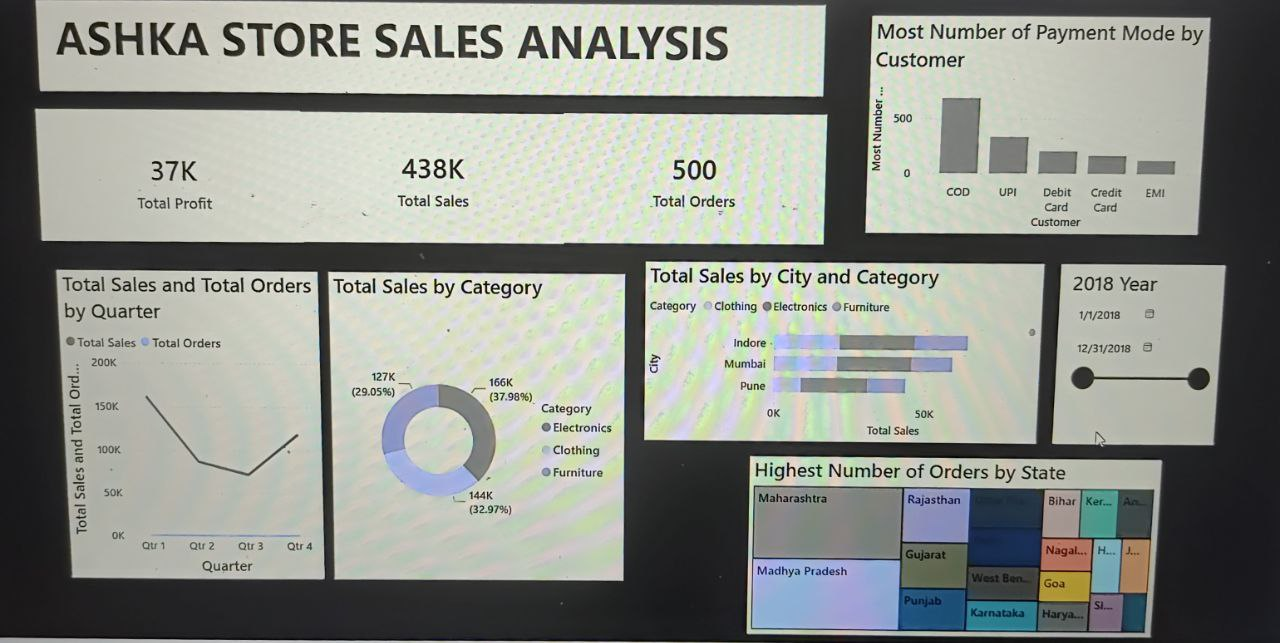

Layout of this report page (visuals, bound fields, positions):
{"tool":"powerbi","page":{"name":"Page 1","canvas":[1280,720],"ordinal":0},"visuals":[{"type":"card","fields":{"Values":["Sum(DETAILS.Profit)"]},"box":[0,133.7,279.9,140],"z":0},{"type":"card","fields":{"Values":["DETAILS.Total Sales"]},"box":[279.9,135,279.9,138.6],"z":1000},{"type":"lineChart","fields":{"Category":["ORDERS.Order Date.Variation.Date Hierarchy.Year","ORDERS.Order Date.Variation.Date Hierarchy.Quarter","ORDERS.Order Date.Variation.Date Hierarchy.Month","ORDERS.Order Date.Variation.Date Hierarchy.Day"],"Y":["DETAILS.Total Sales","DETAILS.Total Orders"]},"box":[13.7,306,279.9,343.1],"z":2000},{"type":"card","fields":{"Values":["DETAILS.Total Orders"]},"box":[559.9,133.7,279.9,138.6],"z":3000},{"type":"barChart","fields":{"Category":["ORDERS.City"],"Y":["DETAILS.Total Sales"],"Series":["DETAILS.Category"]},"box":[647.7,291.2,428.1,197.6],"z":4000},{"type":"donutChart","fields":{"Y":["DETAILS.Total Sales"],"Category":["DETAILS.Category"]},"box":[306,306,321.1,343.1],"z":5000},{"type":"treemap","fields":{"Group":["ORDERS.State"],"Values":["DETAILS.Total Orders"]},"box":[764.3,506.3,450.1,203.1],"z":6000},{"type":"columnChart","fields":{"Category":["DETAILS.PaymentMode"],"Y":["CountNonNull(DETAILS.PaymentMode)"]},"box":[883.7,31.6,354,227.8],"z":7000},{"type":"textbox","box":[5.5,20.6,828.8,94.7],"z":9000},{"type":"slicer","fields":{"Values":["ORDERS.Order Date"]},"box":[1095,290.9,175.6,197.6],"z":9001}]}

Visuals, with their boxes in screenshot pixels (x1, y1, x2, y2):
card - Sum(DETAILS.Profit): region(50, 109, 306, 237)
card - DETAILS.Total Sales: region(306, 110, 561, 237)
lineChart - ORDERS.Order Date.Variation.Date Hierarchy.Year x ORDERS.Order Date.Variation.Date Hierarchy.Quarter: region(63, 266, 318, 580)
card - DETAILS.Total Orders: region(561, 109, 817, 235)
barChart - ORDERS.City x DETAILS.Total Sales: region(642, 253, 1033, 433)
donutChart - DETAILS.Total Sales x DETAILS.Category: region(330, 266, 623, 580)
treemap - ORDERS.State x DETAILS.Total Orders: region(748, 449, 1159, 635)
columnChart - DETAILS.PaymentMode x CountNonNull(DETAILS.PaymentMode): region(857, 16, 1181, 224)
textbox: region(55, 5, 812, 92)
slicer - ORDERS.Order Date: region(1050, 252, 1211, 433)
